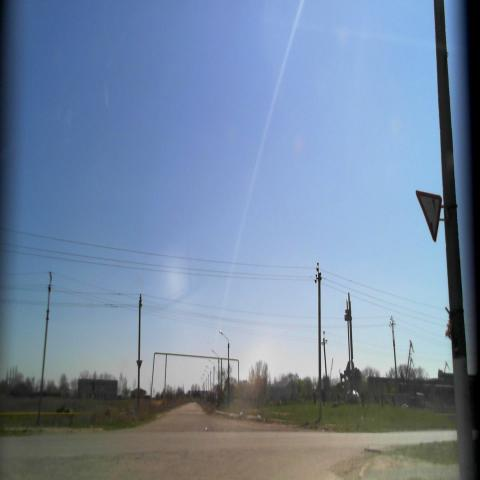2_4: (415, 188, 444, 243)
